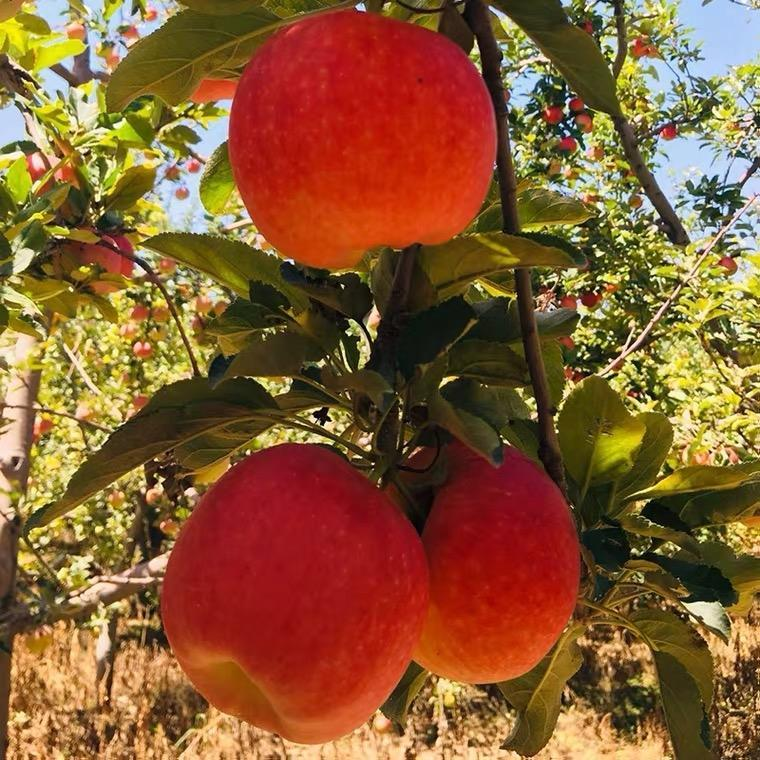apple: (158, 443, 431, 748), (223, 11, 503, 267), (390, 440, 580, 687)
